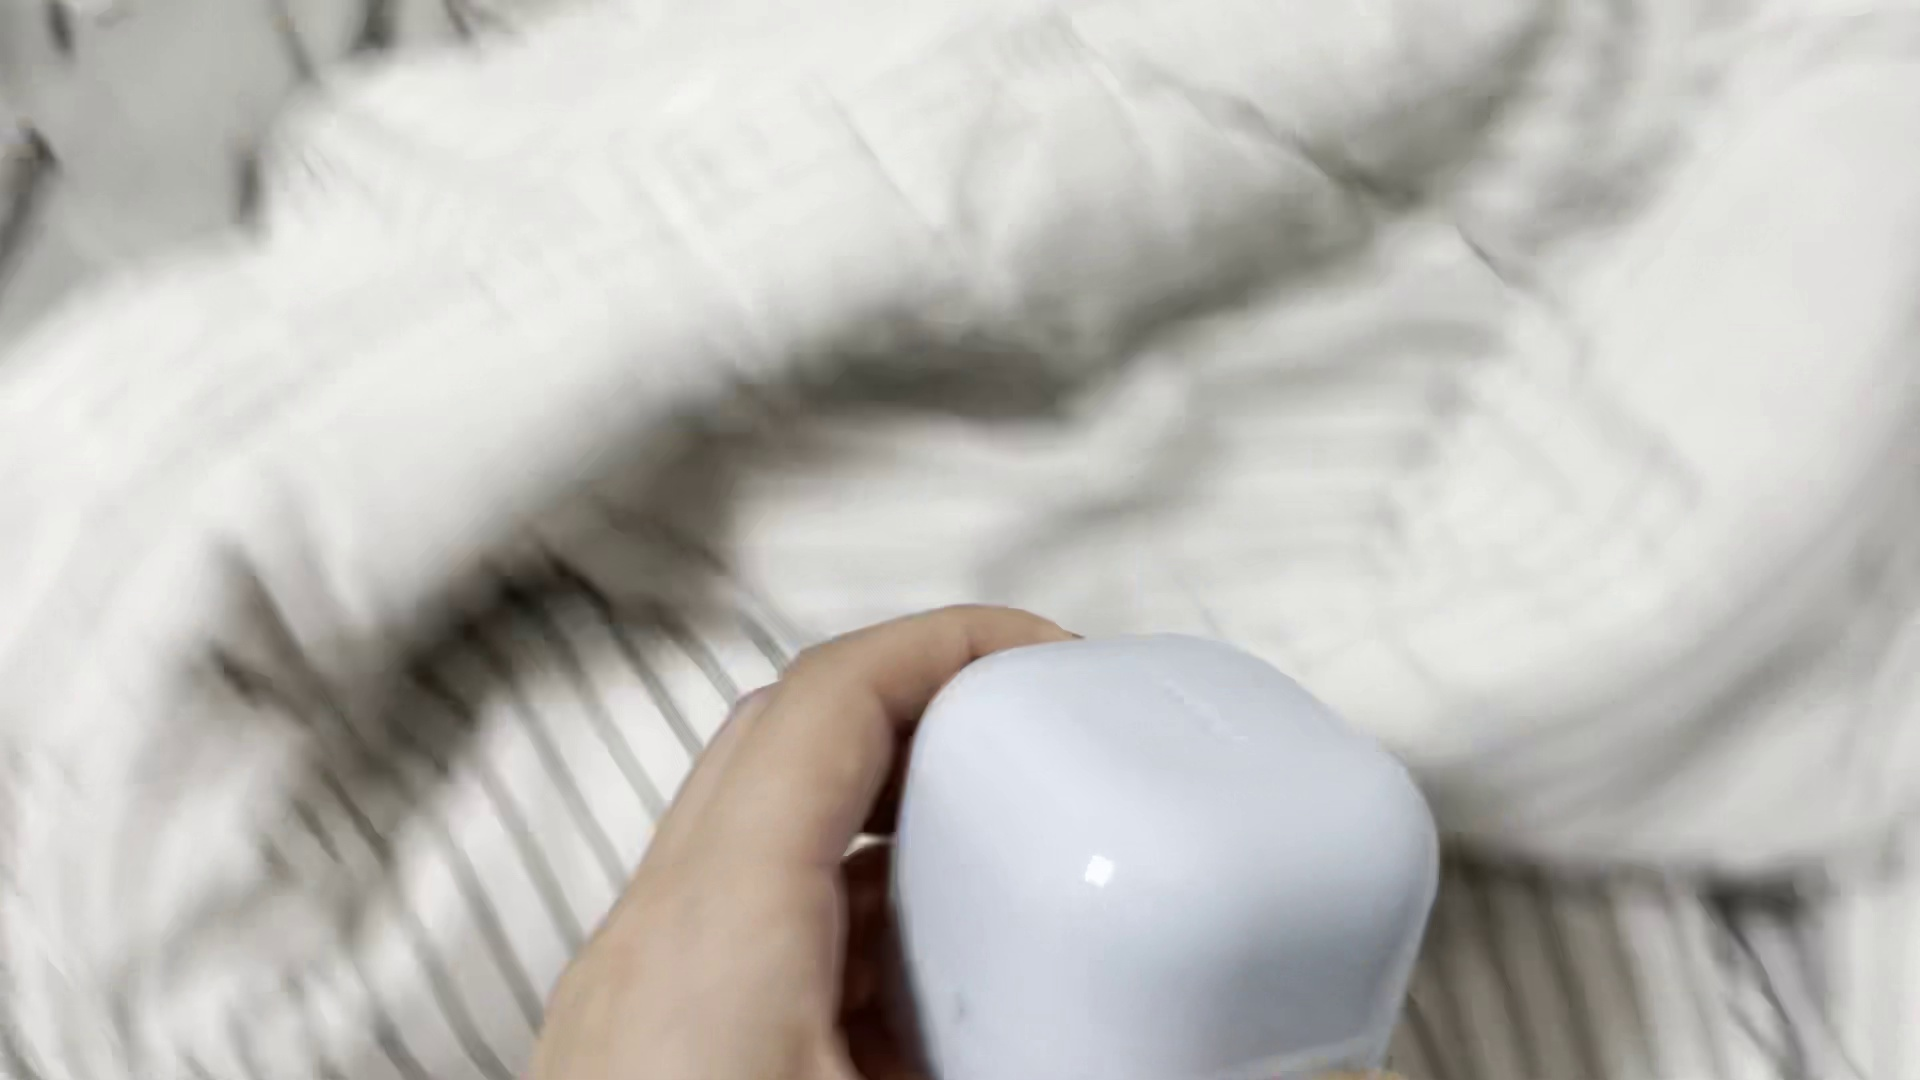cream: (903, 633, 1441, 1080)
